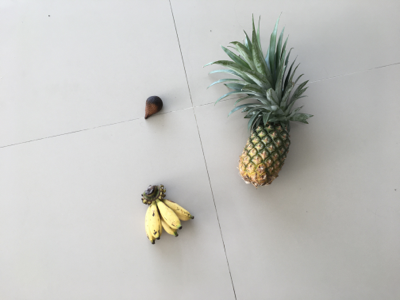banana: (141, 184, 195, 245)
pineapple: (208, 17, 313, 185)
snake fruit: (143, 95, 164, 122)
